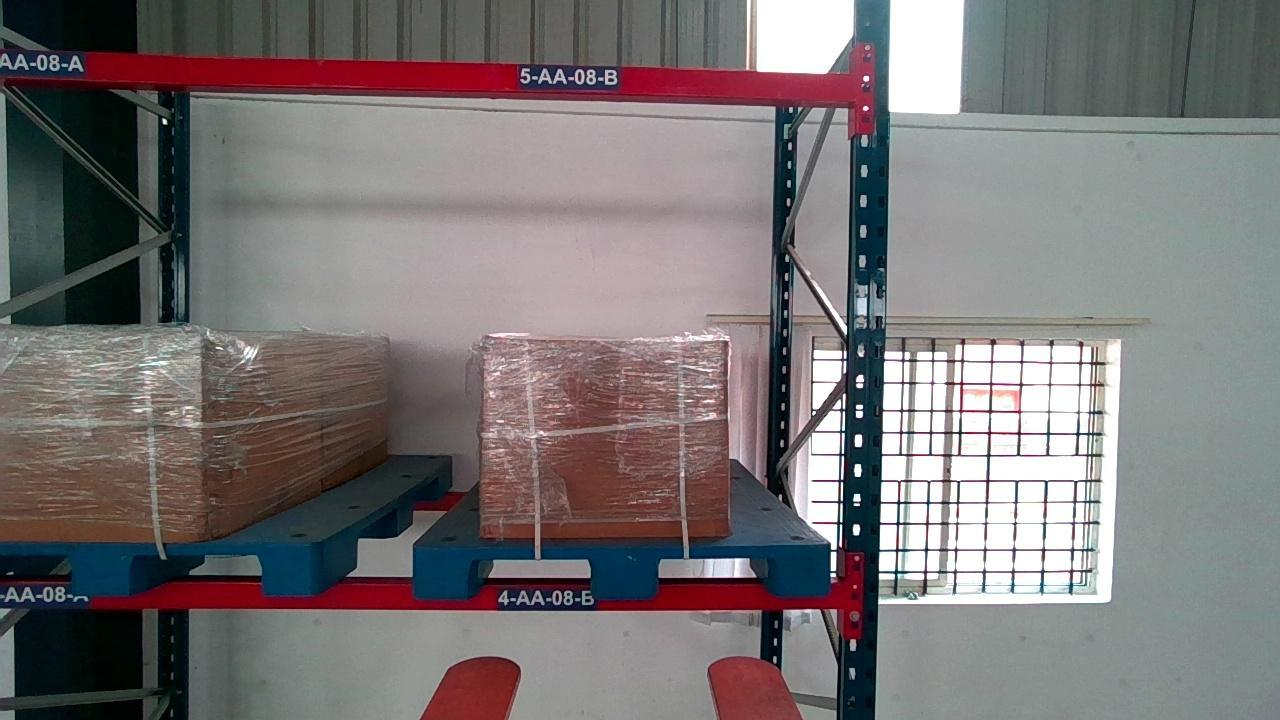h_rack: (7, 49, 864, 108), (3, 581, 861, 609)
small_pallet: (413, 542, 826, 601), (6, 536, 308, 597)
